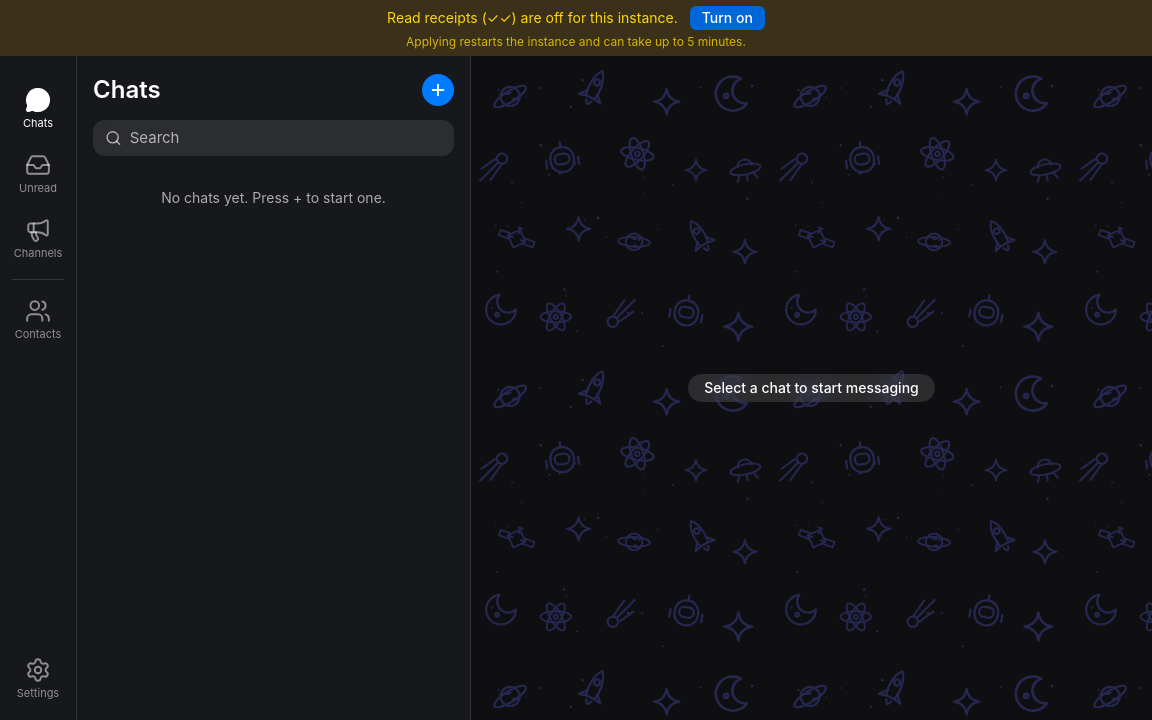
Test case: new contact › checks the number, adds the contact and opens the chat
Click the button named "new chat". click: (438, 90)
box: [422,74,454,106]
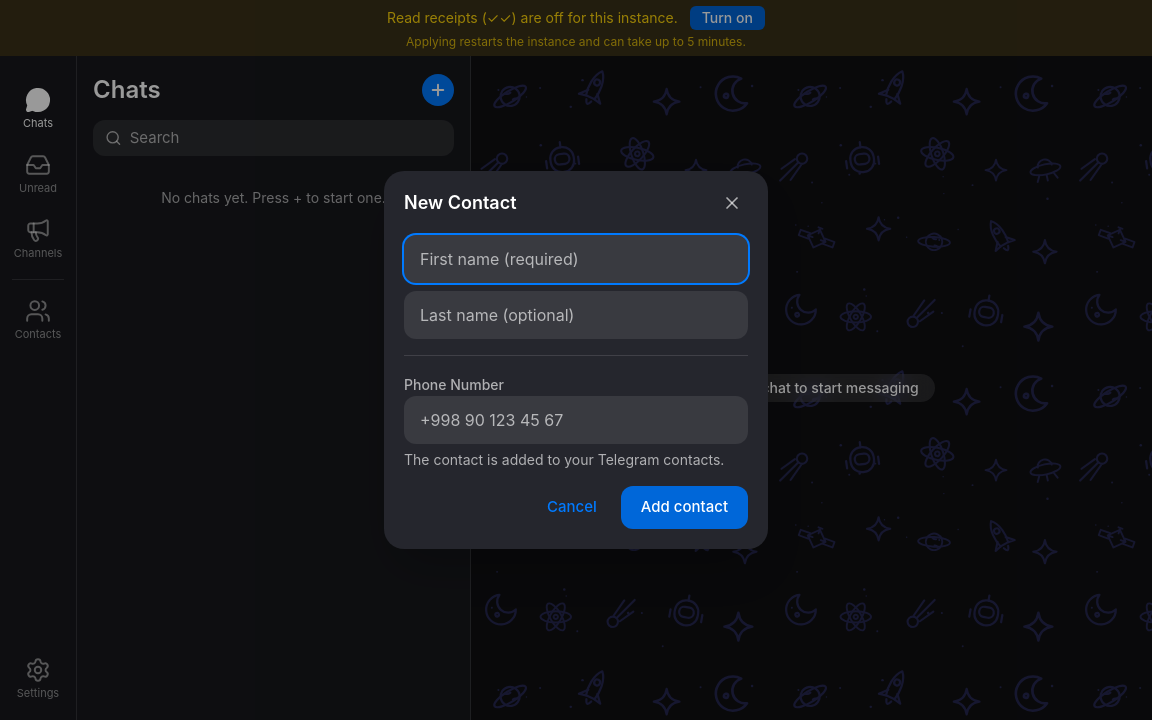
Type "Ann" into the field labelled "First name". click: (576, 259)
box: [404,235,748,283]
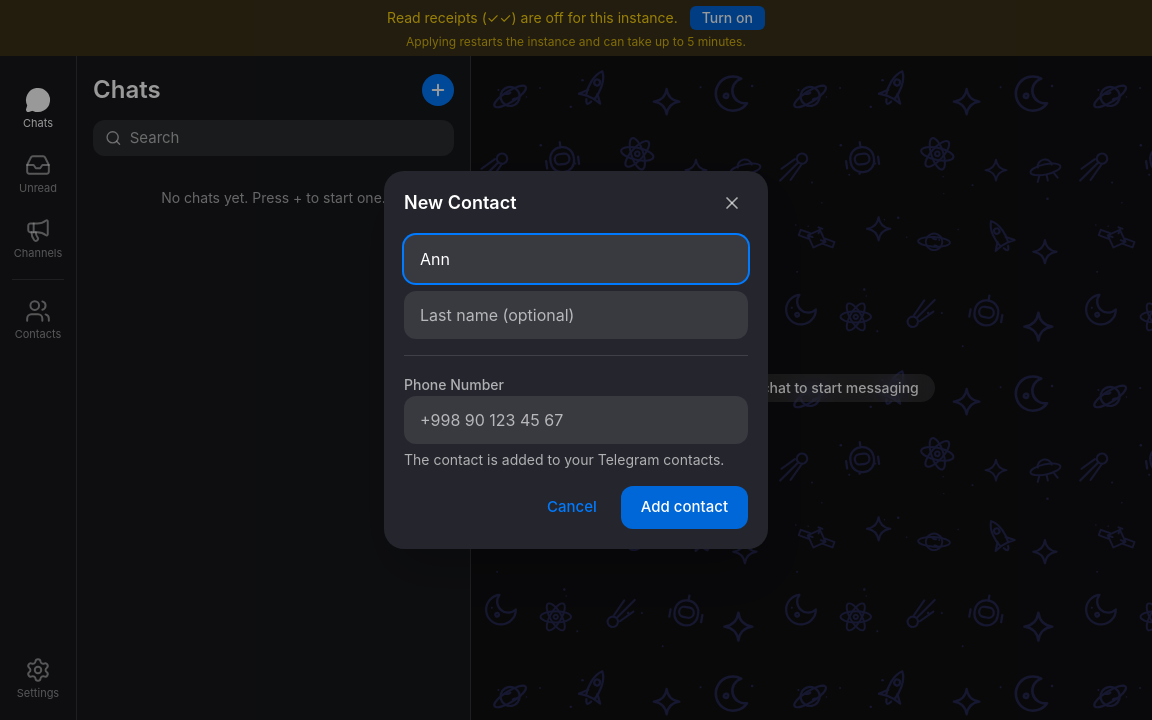
Type "Lee" into the field labelled "Last name". click: (576, 315)
box: [404,291,748,339]
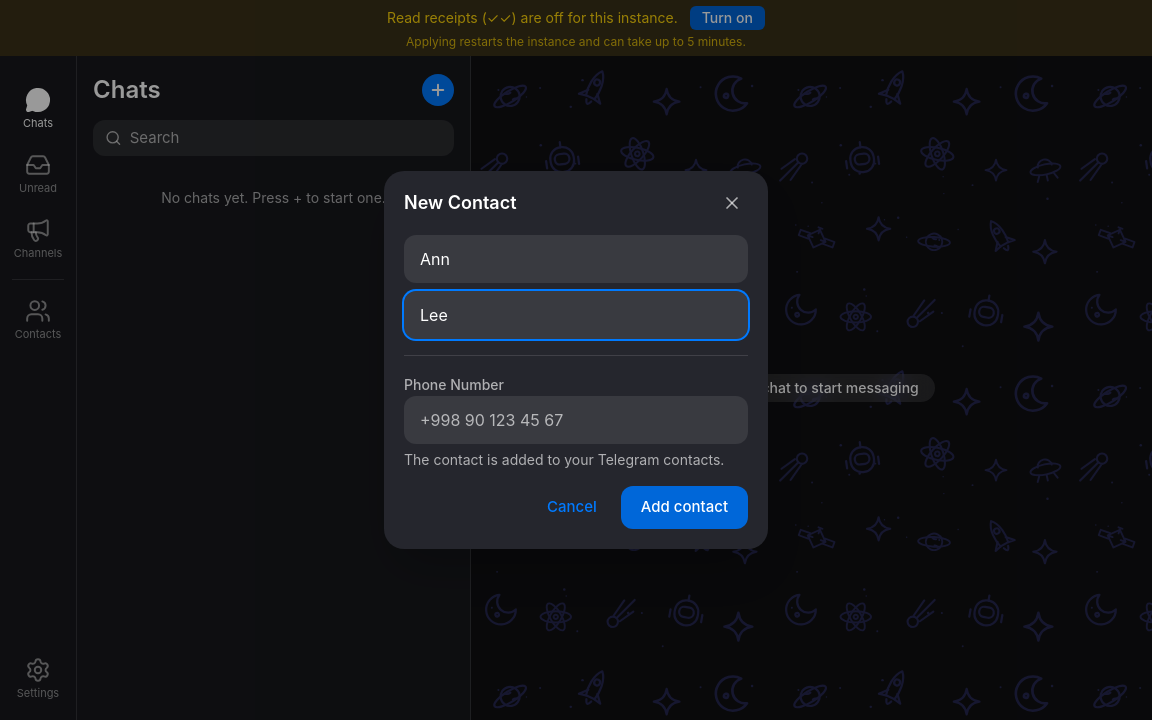
Type "+998 90 123-45-67" into the field labelled "Phone Number". click: (576, 420)
box: [404,396,748,444]
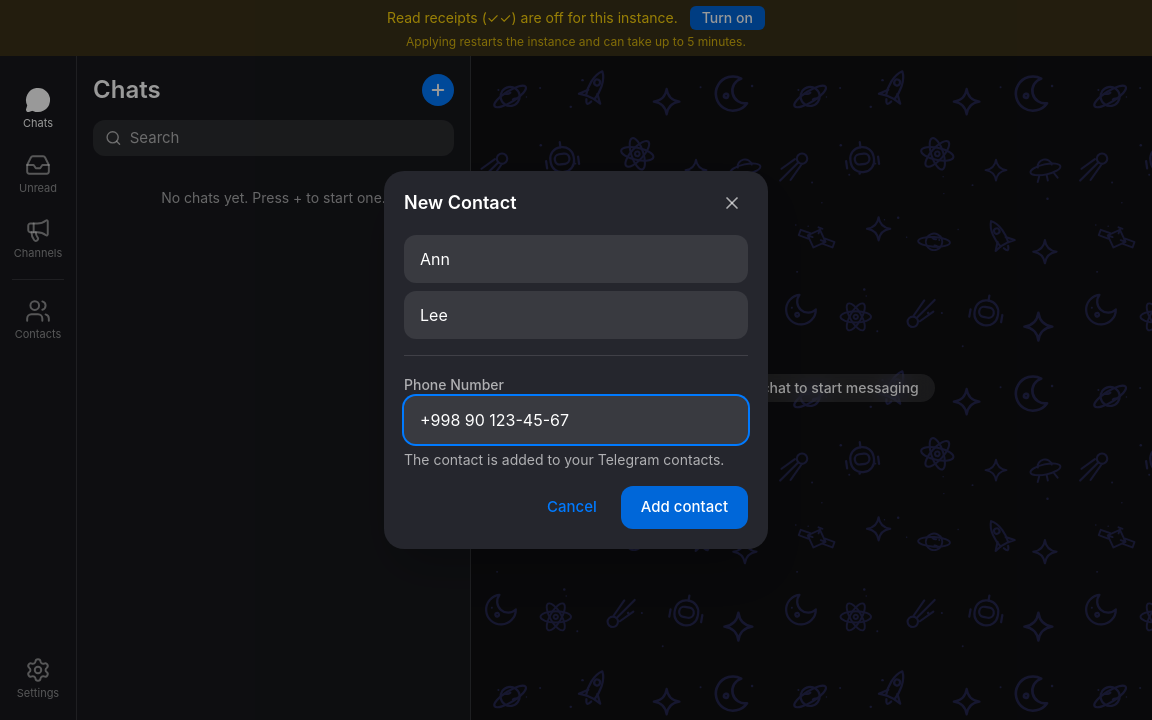
Click the button "Add contact". click: (684, 508)
box: [621,486,748,529]
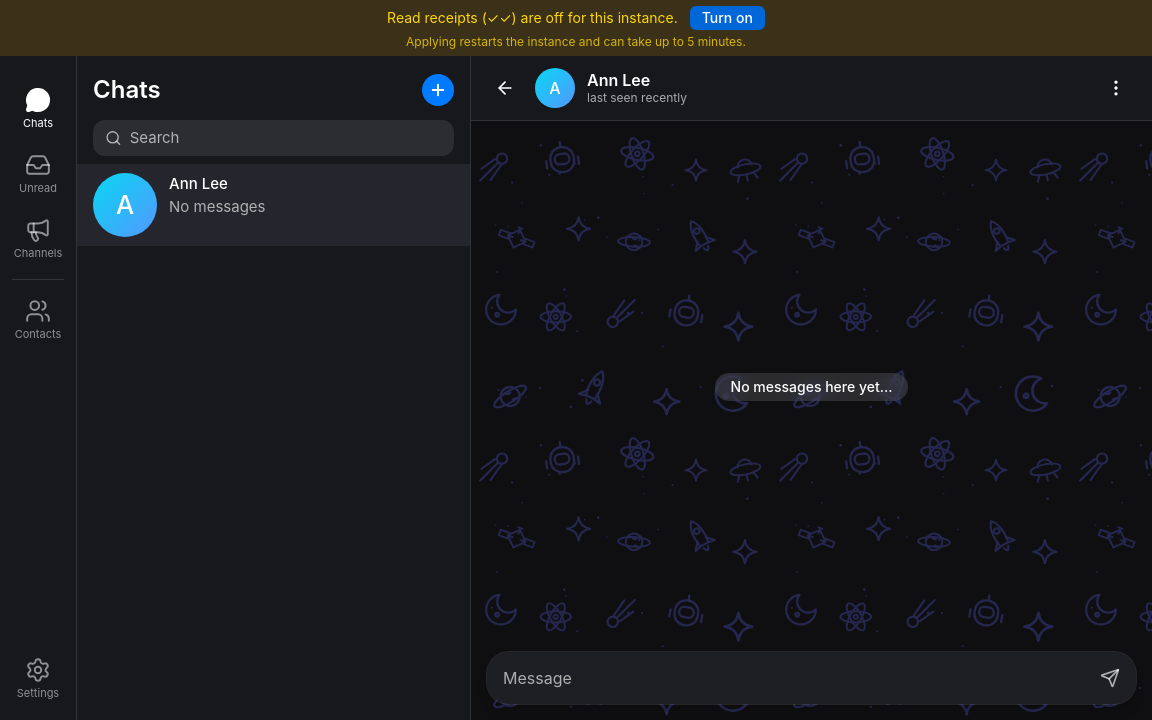
Expected: the dialog is gone
